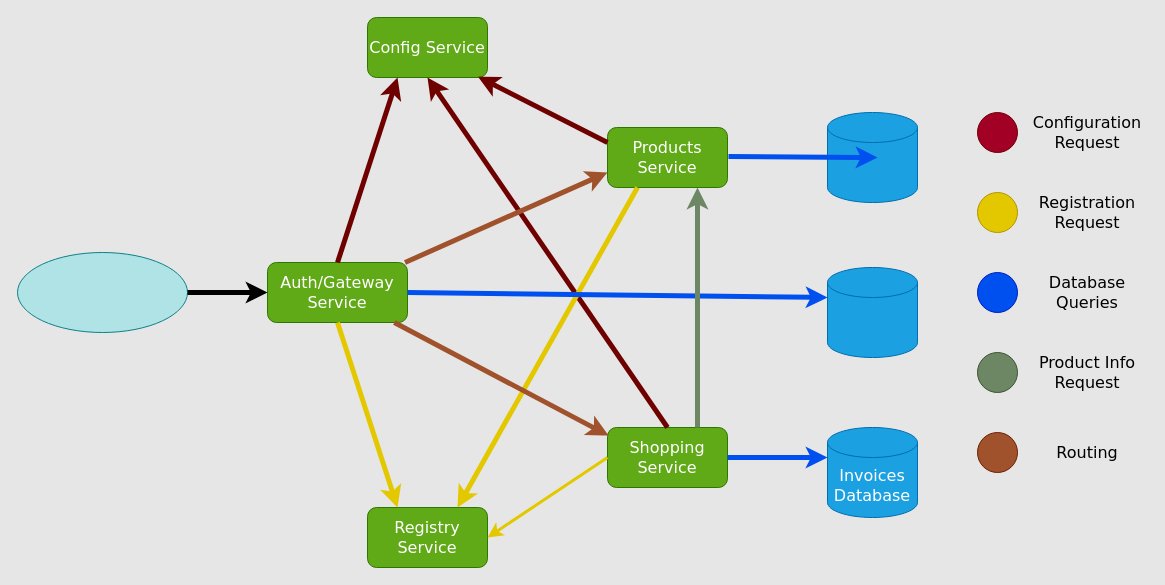
The diagram is 1165 pixels wide and 585 high, and some of its shapes have lost their labels. The centre of each missing label's shape, as x and y in pixels:
Customers/Users: the point at 102,292
Products Database: the point at 872,157
Users Database: the point at 872,312
